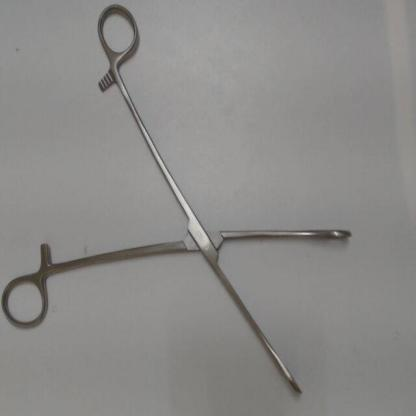Sponge Forceps: (1, 2, 358, 404)
